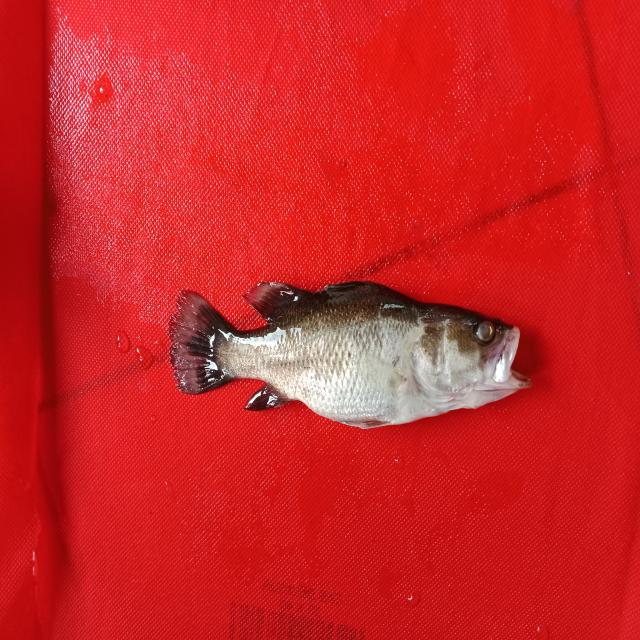ikan: (154, 232, 542, 438)
